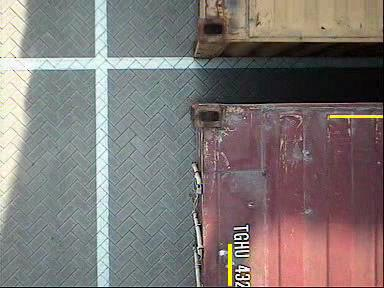groundmarker_2: (99, 96, 174, 147)
